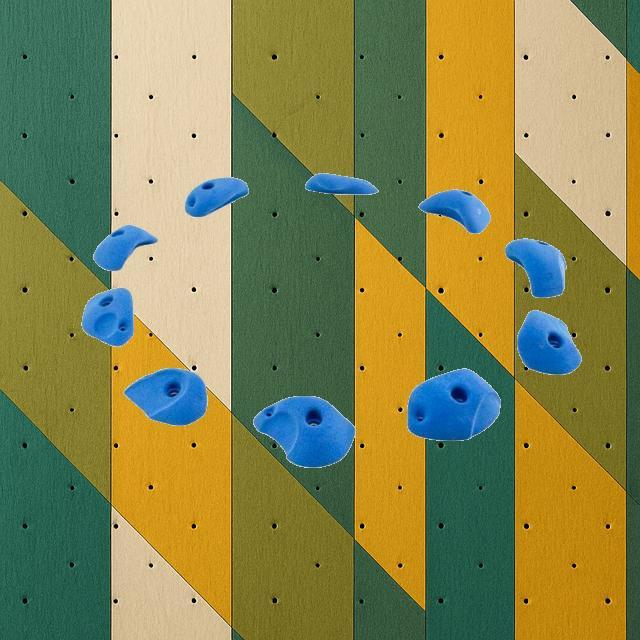Jug: (252, 394, 356, 468), (406, 368, 502, 440), (124, 366, 208, 426), (516, 310, 582, 374), (504, 237, 568, 297), (419, 188, 491, 234), (81, 286, 133, 346), (93, 223, 157, 271), (184, 176, 248, 218), (304, 172, 378, 194)
